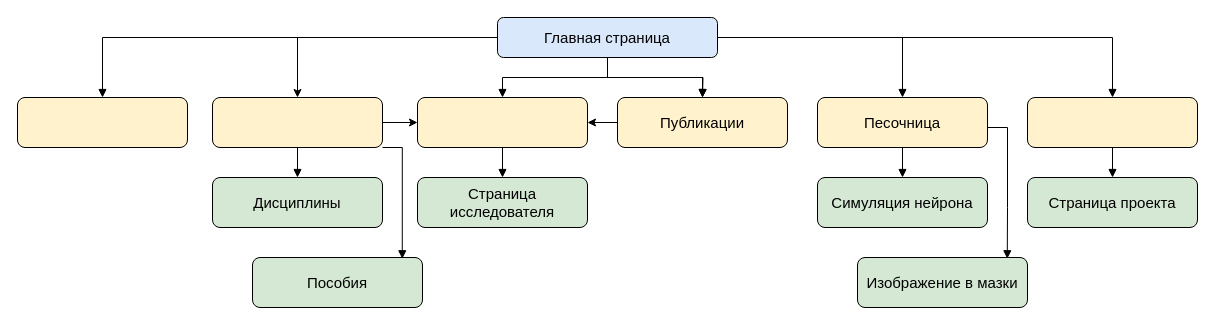
Some shapes in this 1215 by 325 pixel diagram are drawn without their labels. Each missing label, with the centre of its shape:
"Исследователи" goes at [502,122].
"Обучение" goes at [297,122].
"Партнеры" goes at [102,122].
"Проекты" goes at [1112,122].
